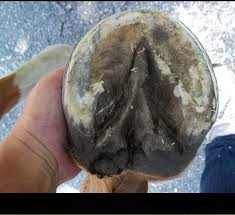horsesole: (61, 8, 219, 144)
